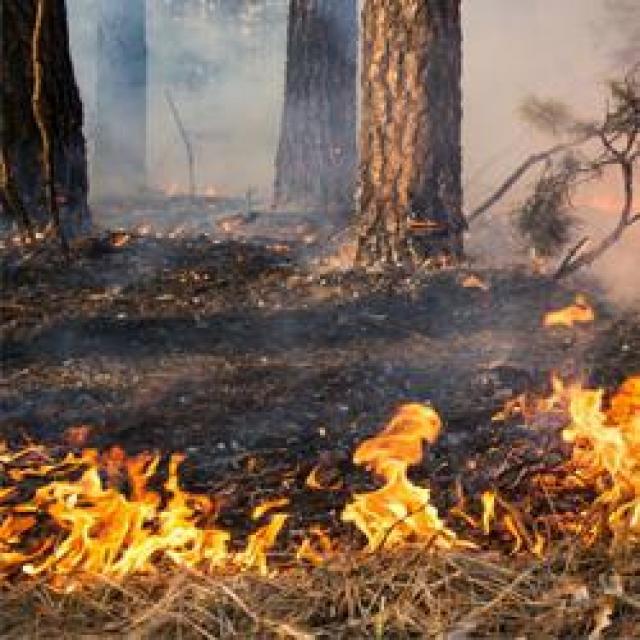fire: (38, 464, 210, 584), (350, 402, 445, 548), (561, 382, 640, 542)
